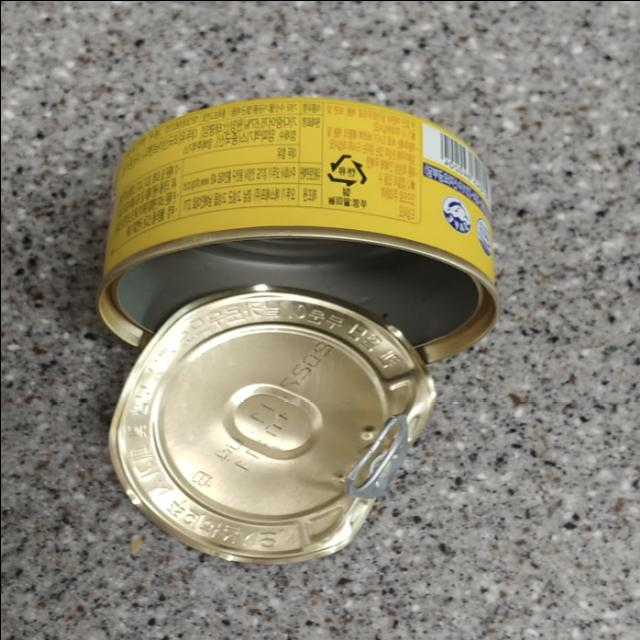can: (76, 85, 518, 361), (100, 274, 438, 580)
